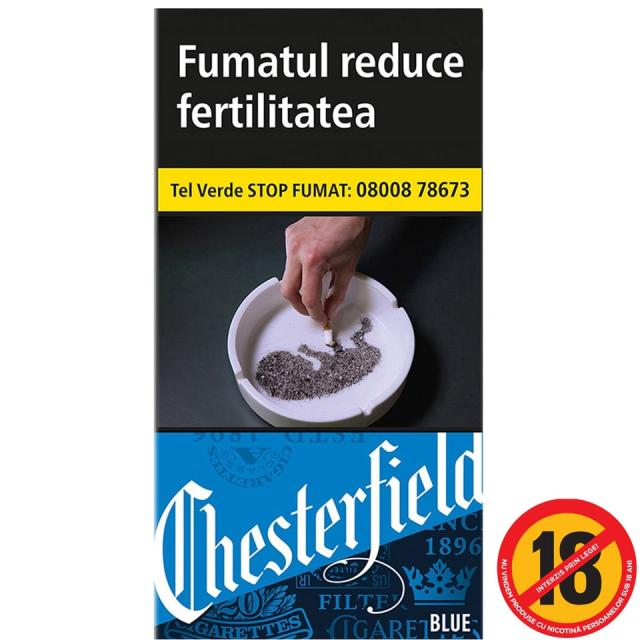chesterfield: (152, 5, 485, 640)
